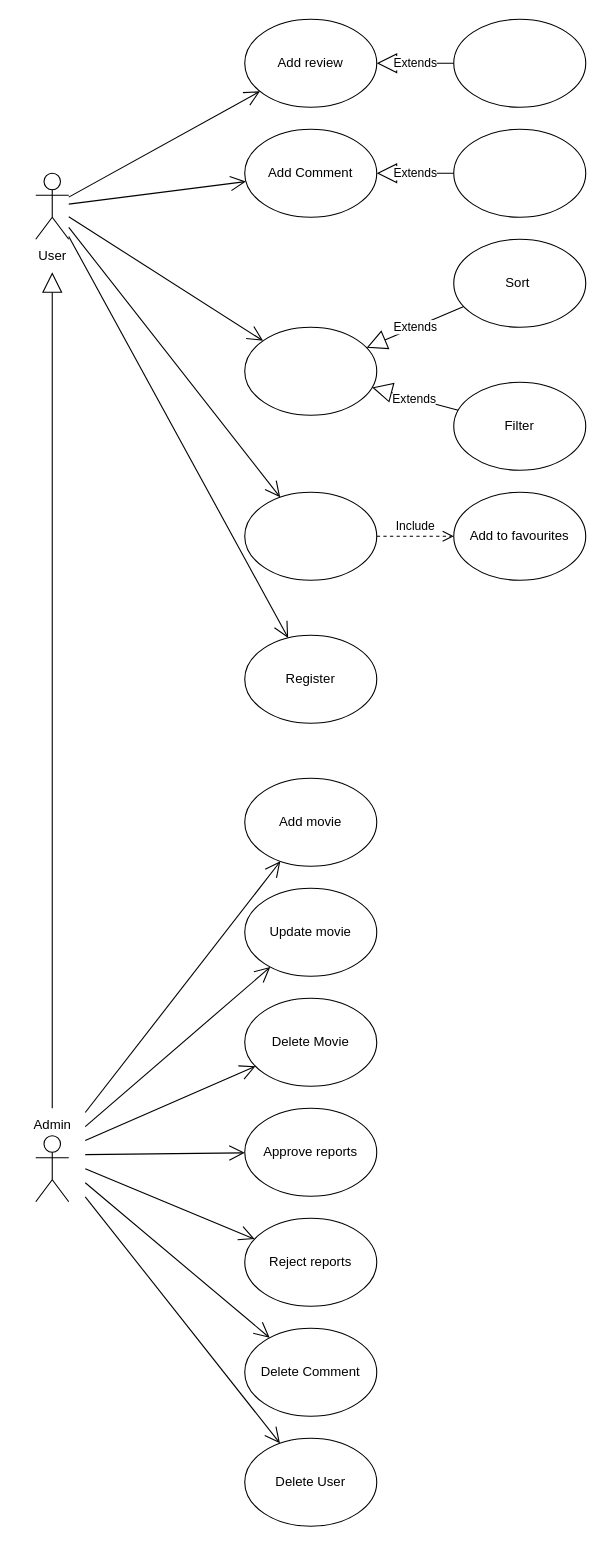
Some shapes in this 605 by 1546 pixel diagram are drawn without their labels. The centre of each missing label's shape, as x and y in pixels:
"Browse movies" belongs at point (310, 370).
"Inspect movie" belongs at point (310, 535).
"Update Comment" belongs at point (519, 172).
"Update review" belongs at point (519, 62).
